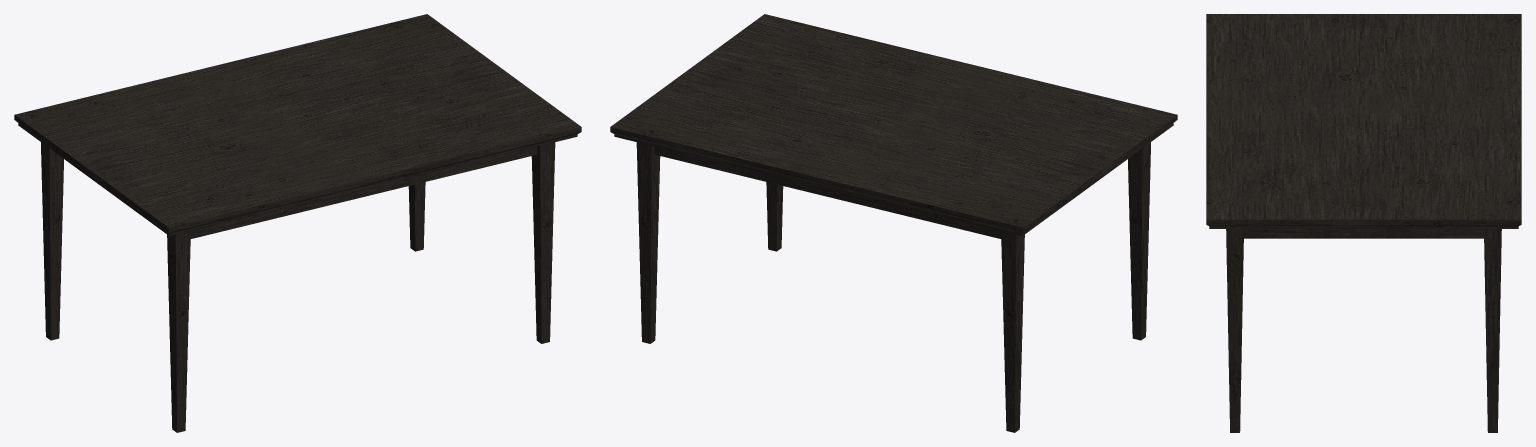
File: dinner_table_1.glb
3 renders of one model, left to right at view 1: azimuth 30°, elevation 25°; view 2: azimuth 150°, elevation 25°; view 3: azimuth 270°, elevation 25°, orthographic. The views are drawn at different scales.
Visible parts, largest first — view 1: dinner_table_1; view 2: dinner_table_1; view 3: dinner_table_1.
Part boxes in pixels (left/top/right/bottom): dinner_table_1: left=14, top=14, right=581, bottom=432; dinner_table_1: left=610, top=14, right=1177, bottom=432; dinner_table_1: left=1206, top=14, right=1521, bottom=432.
Size of the model in its own units: 1.7 by 0.86 by 1.1.
Materials: 1 (1 with a texture image).
